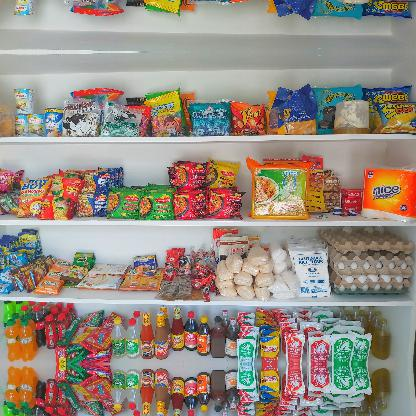Lady-s-Choice: (332, 100, 370, 134)
